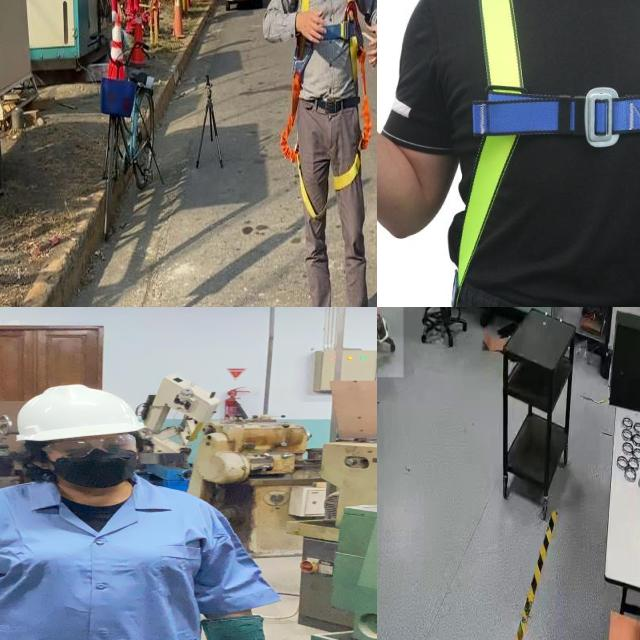Harness: (447, 0, 640, 307), (280, 34, 327, 220), (323, 0, 372, 150)
face_mask: (42, 435, 146, 488)
glasses: (36, 432, 145, 460)
head_helmet: (11, 378, 149, 444)
person: (0, 381, 309, 640)
shoes: (377, 307, 390, 348)
